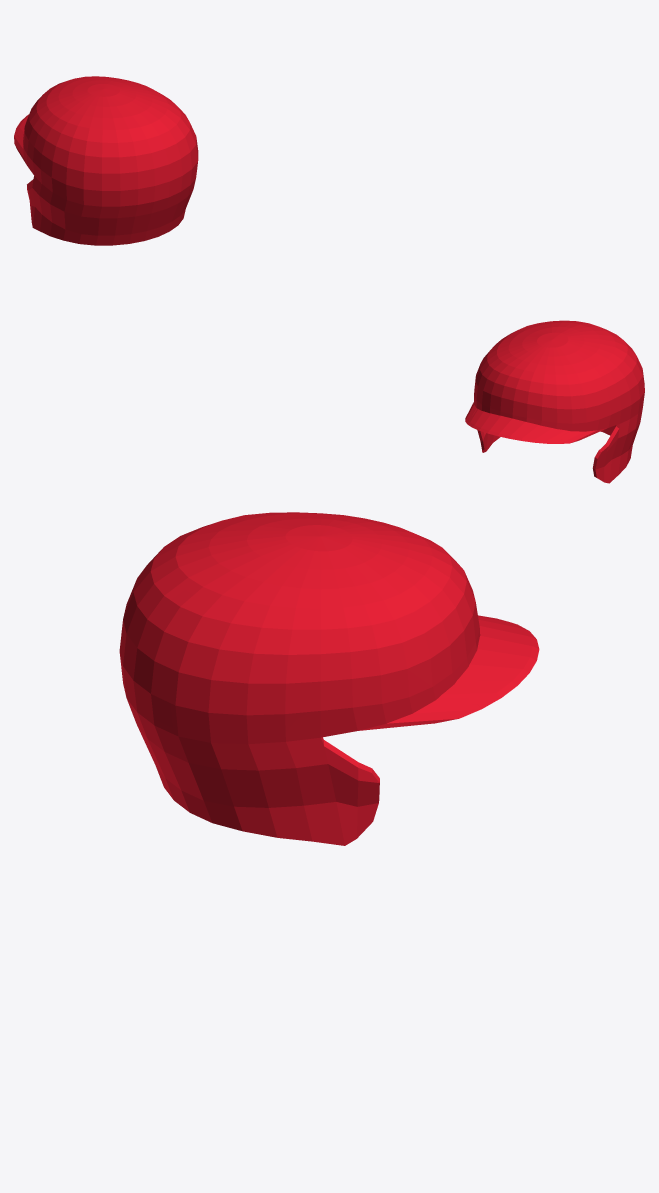
Rendered from casco_reds.glb.
3 renders of one model, top to bottom at view 1: azimuth 30°, elevation 25°; view 2: azimuth 150°, elevation 25°; view 3: azimuth 270°, elevation 25°, orthographic. The views are drawn at different scales.
Visible parts, largest first — view 1: Reds.001; view 2: Reds.001; view 3: Reds.001.
Boxes of the visible parts, x1=… form: Reds.001: x1=14, y1=76, x2=198, y2=245; Reds.001: x1=465, y1=320, x2=644, y2=483; Reds.001: x1=119, y1=512, x2=539, y2=845.
Size of the model in its own units: 8.35 by 1.64 by 2.52.
